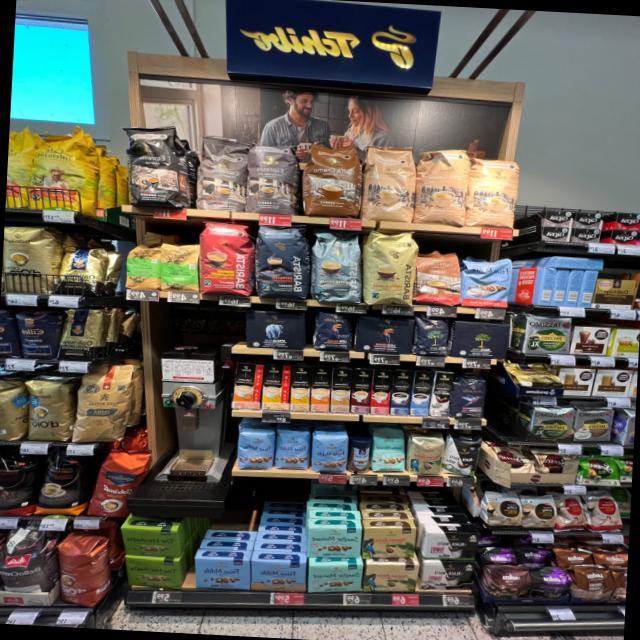AB Gemahlen: (244, 308, 306, 352)
Athiopien Bohne: (124, 242, 161, 290)
Athiopien Gemahlen: (158, 240, 200, 294)
BM Bohne: (414, 317, 450, 358)
BM Gemahlen: (449, 321, 510, 360)
BW Bohne: (442, 436, 484, 478)
BW Gemahlen: (422, 530, 481, 562), (422, 558, 477, 592)
Barista CB: (362, 228, 418, 308)
Barista CC: (310, 228, 363, 304)
Barista Espresso: (253, 222, 311, 299)
Barista Kolumbien: (197, 220, 254, 296)
C Fino Bohne: (452, 376, 488, 420)
CC Mild: (416, 144, 470, 228), (361, 143, 418, 222), (466, 156, 522, 228)
CC Vollmundig: (414, 248, 461, 306)
CC Vollmundig 36 Pads: (302, 140, 364, 218)
Colombia BB Bohne: (406, 435, 447, 477)
Colombia BB Gemahlen: (362, 524, 418, 562), (364, 561, 419, 595)
Espresso Aromatisch: (194, 134, 250, 211)
Espresso Kraftig: (122, 123, 184, 206)
Espresso M Art: (245, 140, 299, 217)
FM 36 Pads: (461, 256, 513, 309)
FM Bohne: (311, 430, 349, 473), (236, 429, 274, 472), (274, 427, 311, 471)
FM Gemahlen: (192, 556, 252, 590), (250, 558, 306, 594)
FM Instant: (348, 436, 372, 474)
Herzhatfe Mundig: (119, 526, 181, 559), (123, 555, 180, 589)
LG Bohne: (314, 312, 352, 352)
LG Gemahlen: (354, 316, 416, 356)
SM Bohne: (370, 427, 407, 474)
SM Gemahlen: (306, 558, 364, 596), (306, 524, 363, 561)
Simo CCMild: (262, 364, 291, 412)
Simo CCMild bigpack: (290, 364, 312, 410)
Simo CCVollmundig: (232, 363, 264, 410)
Simo CCVollmundig bigpack: (310, 366, 332, 412)
Simo Decaff: (331, 367, 352, 412)
Simo Es Brazil: (371, 370, 393, 416)
Simo Es Caramel: (351, 368, 372, 414)
Simo Es Elegant: (429, 372, 454, 417)
Simo Es Kraft: (391, 370, 413, 416)
Simo Es Vanilla: (410, 371, 435, 416)
